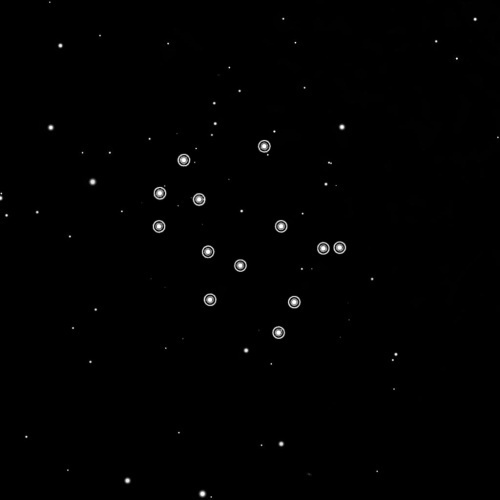gemini: (147, 134, 353, 343)
